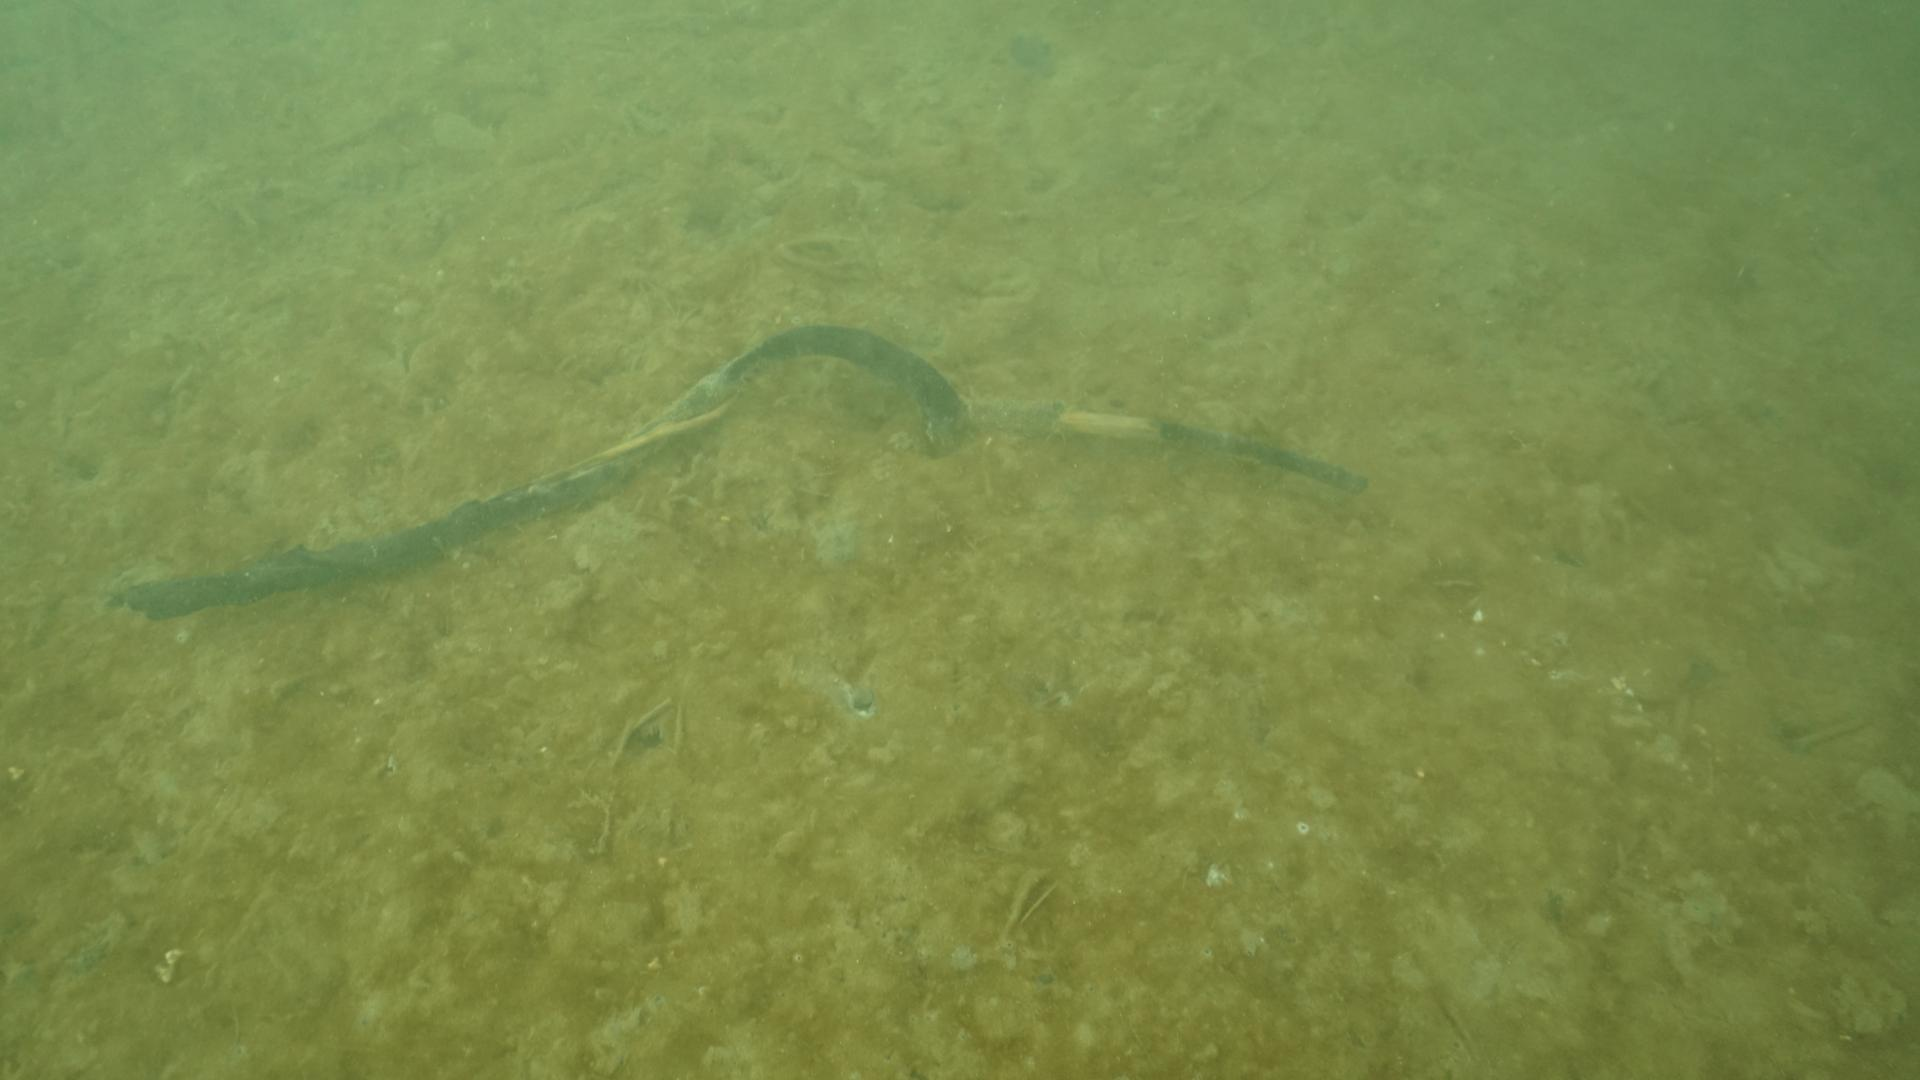wood: (107, 320, 1371, 624)
